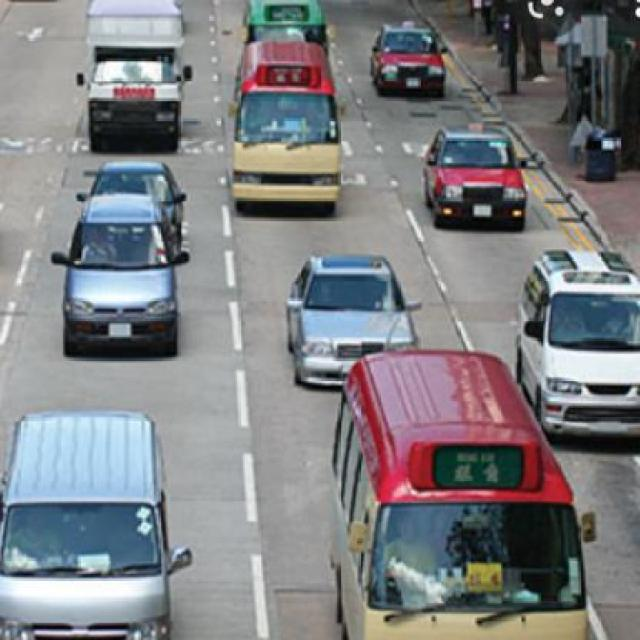car: (10, 412, 178, 640), (518, 250, 640, 442), (52, 200, 180, 359), (227, 43, 337, 219), (287, 252, 414, 392), (424, 129, 528, 235), (74, 157, 186, 219), (373, 22, 446, 99)
truck: (80, 3, 194, 154)
